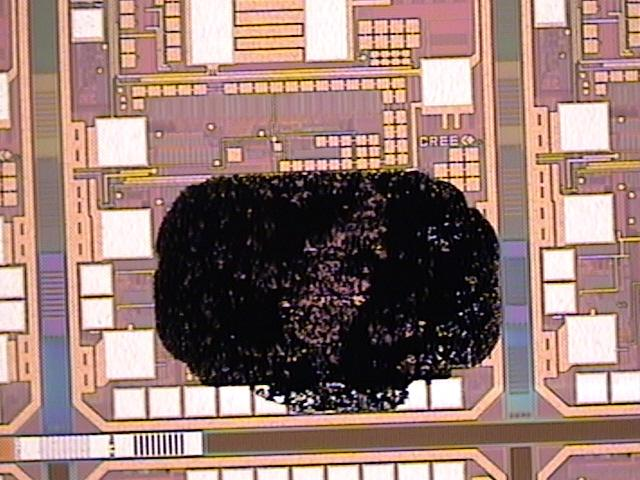PO CONTAMINATION: (153, 171, 505, 417)
